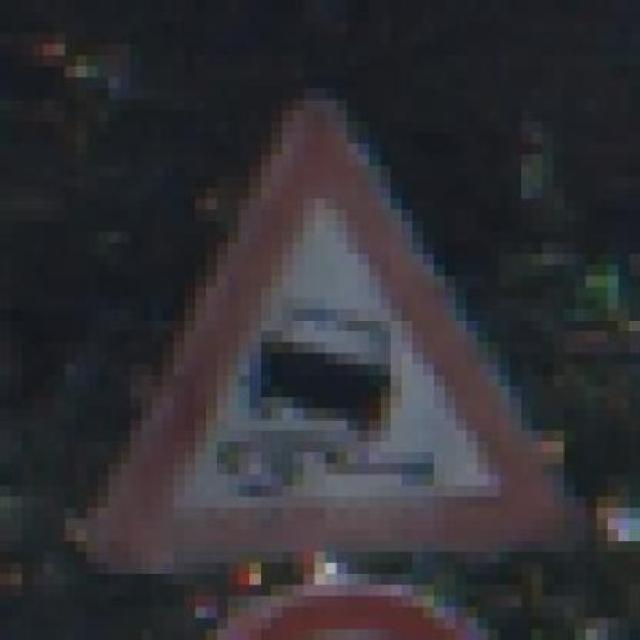Slippery Road Ahead: (87, 77, 553, 585)
